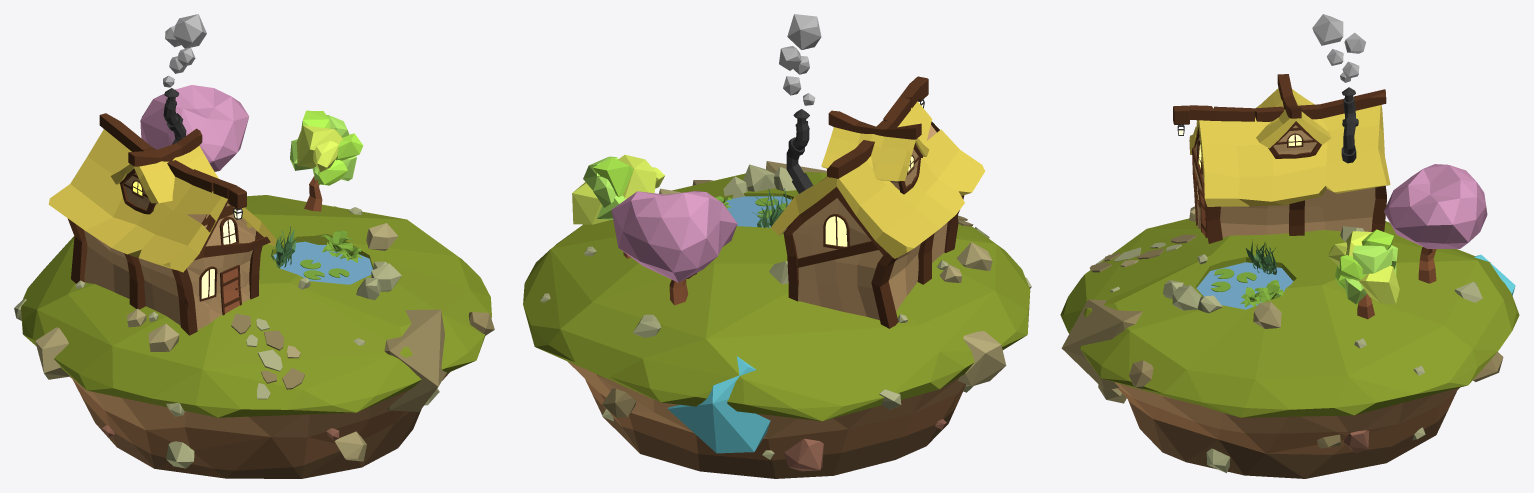
Rendered from House5.glb.
3 renders of one model, left to right at view 1: azimuth 30°, elevation 25°; view 2: azimuth 150°, elevation 25°; view 3: azimuth 270°, elevation 25°, orthographic. The views are drawn at different scales.
Visible parts, largest first — view 1: Cylinder.005, Cylinder, Cube.001, Cube, Icosphere, Icosphere.043, water, Cube.003, Cube.004, Cube.005, Icosphere.037, Icosphere.006 (+15 smaller); view 2: Cylinder.005, Cylinder, Cube.001, Icosphere, Cube, Icosphere.041, Cube.003, Cube.004, Icosphere.037, Cube.015, Cylinder.003, Cube.005 (+13 smaller); view 3: Cylinder.005, Cylinder, Cube.001, Icosphere, Cube, Icosphere.043, Cube.004, water, Cube.003, Icosphere.007, Cylinder.003, Icosphere.010 (+11 smaller).
Part boxes in pixels (x1=…): Cylinder.005: x1=20, y1=195, x2=491, y2=417; Cylinder: x1=70, y1=372, x2=449, y2=478; Cube.001: x1=48, y1=129, x2=276, y2=272; Cube: x1=84, y1=205, x2=255, y2=330; Icosphere: x1=140, y1=85, x2=249, y2=171; Icosphere.043: x1=384, y1=309, x2=446, y2=411; water: x1=274, y1=241, x2=372, y2=284; Cube.003: x1=110, y1=145, x2=218, y2=203; Cube.004: x1=99, y1=113, x2=236, y2=198; Cube.005: x1=128, y1=128, x2=202, y2=166; Icosphere.037: x1=35, y1=327, x2=69, y2=379; Icosphere.006: x1=296, y1=125, x2=343, y2=167; Cylinder.005: x1=523, y1=172, x2=1030, y2=421; Cylinder: x1=567, y1=361, x2=966, y2=478; Cube.001: x1=771, y1=101, x2=985, y2=258; Icosphere: x1=611, y1=191, x2=737, y2=282; Cube: x1=783, y1=125, x2=947, y2=320; Icosphere.041: x1=668, y1=356, x2=770, y2=453; Cube.003: x1=821, y1=127, x2=929, y2=181; Cube.004: x1=827, y1=83, x2=921, y2=178; Icosphere.037: x1=957, y1=331, x2=1006, y2=386; Cube.015: x1=871, y1=253, x2=898, y2=328; Cylinder.003: x1=786, y1=109, x2=813, y2=193; Cube.005: x1=828, y1=110, x2=921, y2=139; Cylinder.005: x1=1060, y1=218, x2=1519, y2=417; Cylinder: x1=1114, y1=382, x2=1459, y2=478; Cube.001: x1=1189, y1=105, x2=1390, y2=206; Icosphere: x1=1384, y1=164, x2=1487, y2=248; Cube: x1=1194, y1=137, x2=1375, y2=237; Icosphere.043: x1=1061, y1=299, x2=1142, y2=390; Cube.004: x1=1189, y1=89, x2=1386, y2=121; water: x1=1196, y1=262, x2=1293, y2=309; Cube.003: x1=1256, y1=88, x2=1331, y2=148; Icosphere.007: x1=1358, y1=265, x2=1399, y2=303; Cylinder.003: x1=1341, y1=87, x2=1358, y2=163; Icosphere.010: x1=1352, y1=245, x2=1392, y2=274.
Size of the model in its own units: 8.39 by 7.61 by 8.36.
